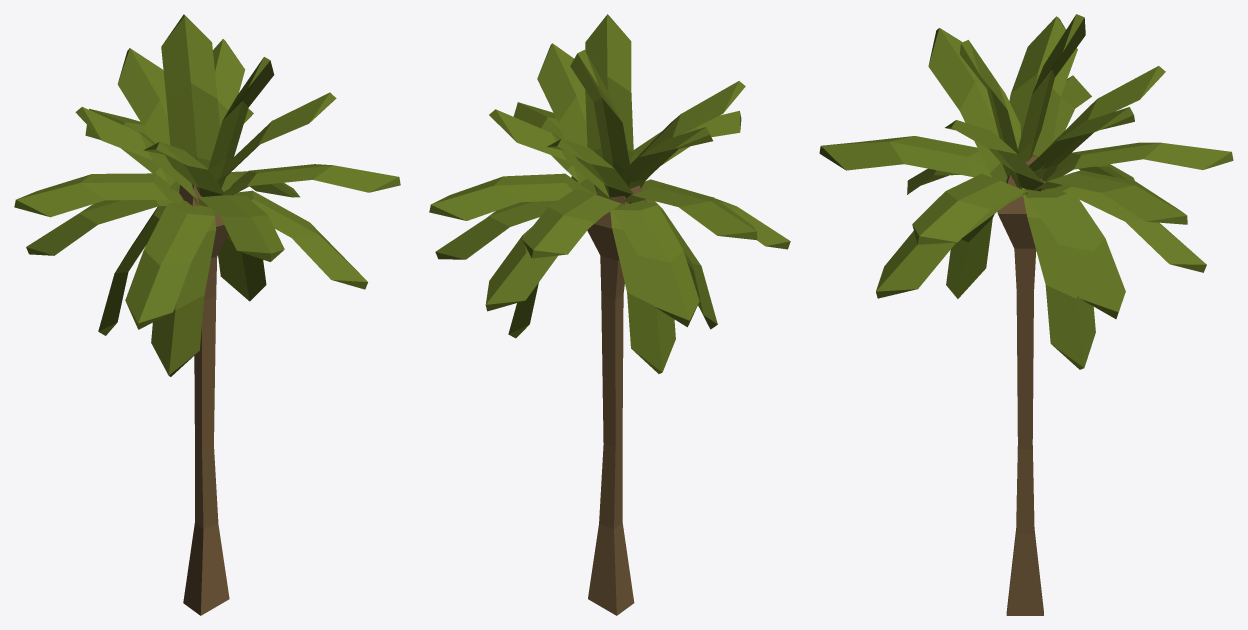
File: tree1.fbx
3 renders of one model, left to right at view 1: azimuth 30°, elevation 25°; view 2: azimuth 150°, elevation 25°; view 3: azimuth 270°, elevation 25°, orthographic. The views are drawn at different scales.
Parts seen in each view (by area): view 1: Tree Type7 04 Model; view 2: Tree Type7 04 Model; view 3: Tree Type7 04 Model.
Part boxes in pixels (x1,y1,x2,y2): Tree Type7 04 Model: [14, 14, 400, 615]; Tree Type7 04 Model: [429, 14, 790, 615]; Tree Type7 04 Model: [819, 14, 1233, 615].
Bounding box in the file's own units: 240 × 419 × 259.
